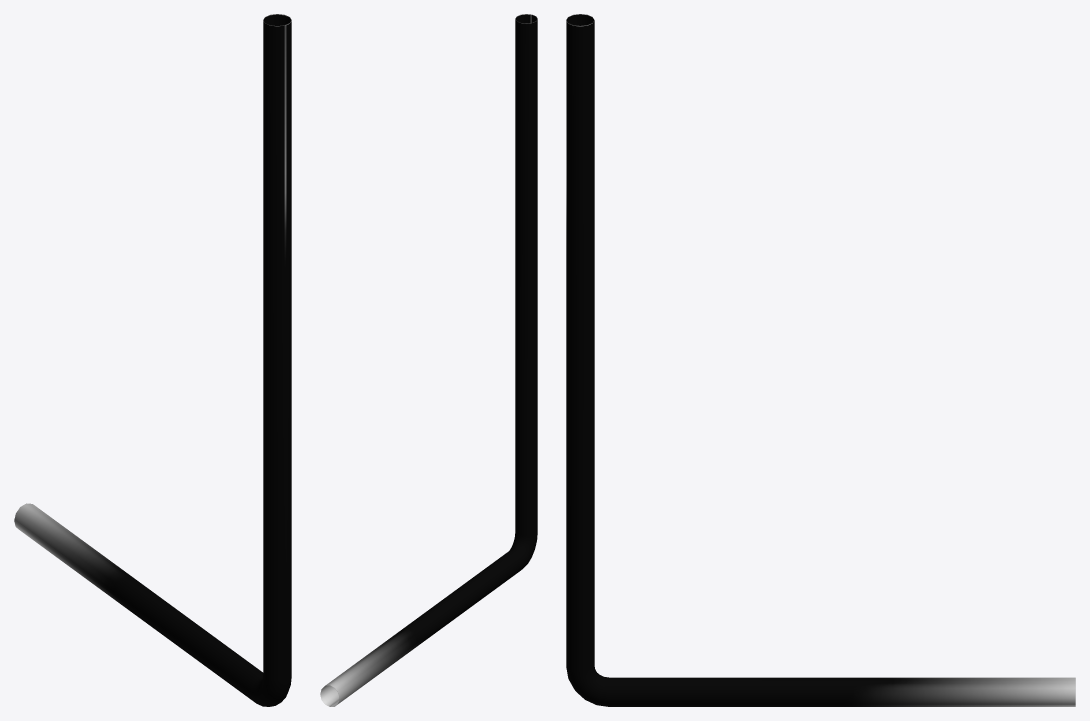
File: p_mesh_smelterinput_pipeglow01.fbx
The picture shows the model from 3 angles, left to right: view 1: azimuth 30°, elevation 25°; view 2: azimuth 150°, elevation 25°; view 3: azimuth 270°, elevation 25°; orthographic projection. The views are drawn at different scales.
Parts seen in each view (by area): view 1: env_building_pipesmall032; view 2: env_building_pipesmall032; view 3: env_building_pipesmall032.
Part boxes in pixels (x1=…): env_building_pipesmall032: x1=14, y1=14, x2=291, y2=706; env_building_pipesmall032: x1=320, y1=14, x2=537, y2=706; env_building_pipesmall032: x1=566, y1=14, x2=1075, y2=706.
Size of the model in its own units: 7.36 by 197 by 133.
Materials: 1 (1 with a texture image).
